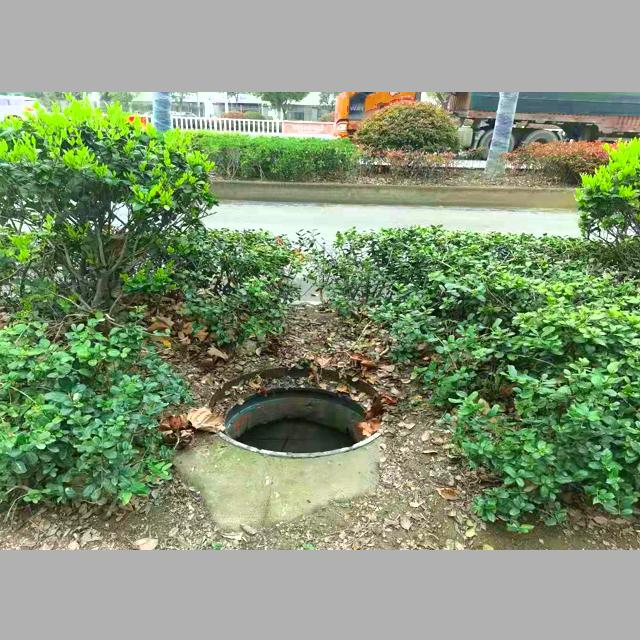lose: (210, 363, 388, 457)
